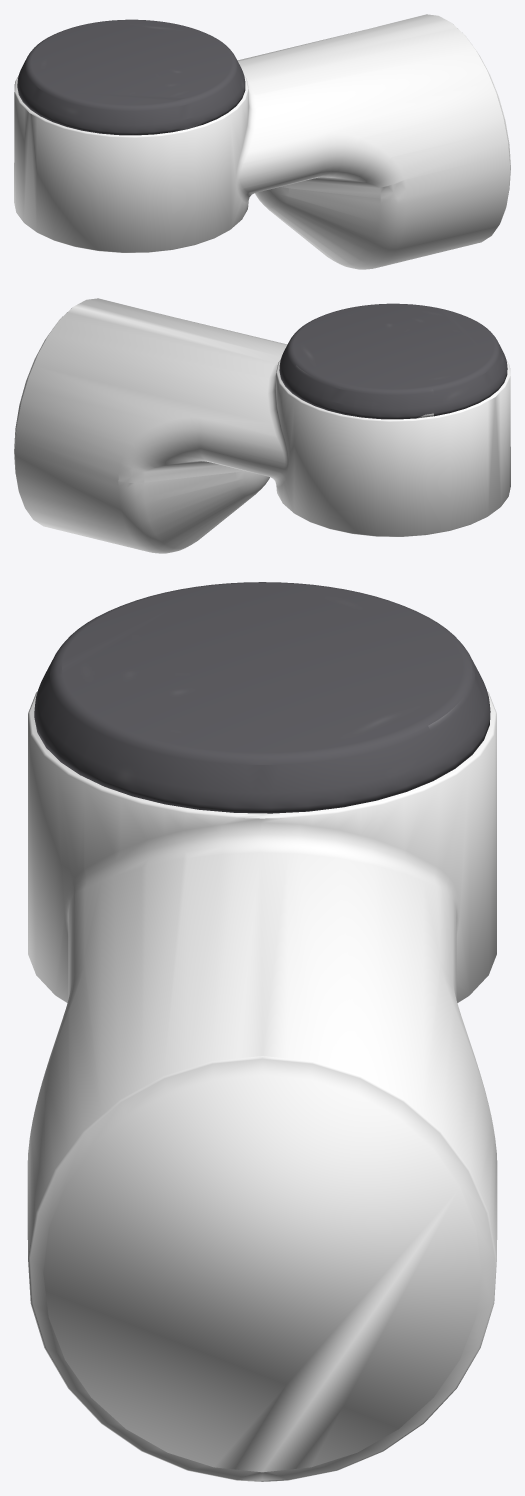
File: elbow_flex_link.obj
3 renders of one model, top to bottom at view 1: azimuth 30°, elevation 25°; view 2: azimuth 150°, elevation 25°; view 3: azimuth 270°, elevation 25°, orthographic. The views are drawn at different scales.
Size of the model in its own units: 0.218 by 0.1225 by 0.104.
Materials: 1 (1 with a texture image).
